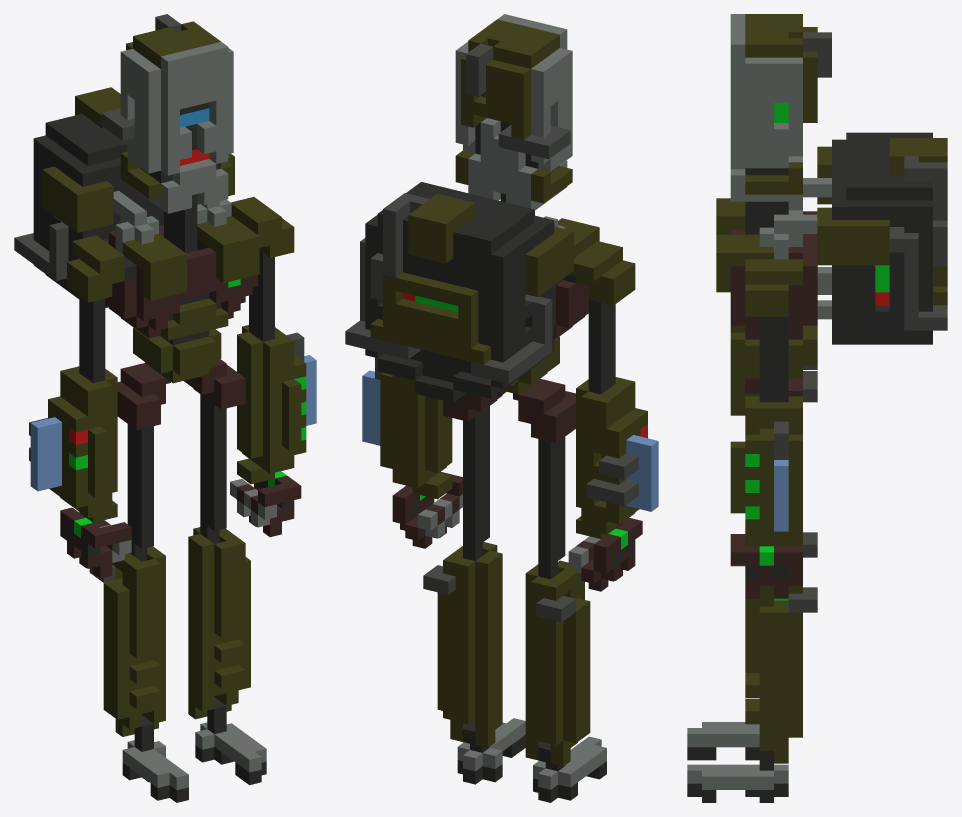
Rendered from companion.glb.
The picture shows the model from 3 angles, left to right: view 1: azimuth 30°, elevation 25°; view 2: azimuth 150°, elevation 25°; view 3: azimuth 270°, elevation 25°; orthographic projection. The views are drawn at different scales.
Parts seen in each view (by area): view 1: companion; view 2: companion; view 3: companion.
Part boxes in pixels (left/top/right/bottom): companion: left=14, top=14, right=316, bottom=802; companion: left=345, top=14, right=658, bottom=802; companion: left=687, top=14, right=947, bottom=802.
Bounding box in the file's own units: 2.3 × 5.7 × 1.8.
1 material, 1 textured.
